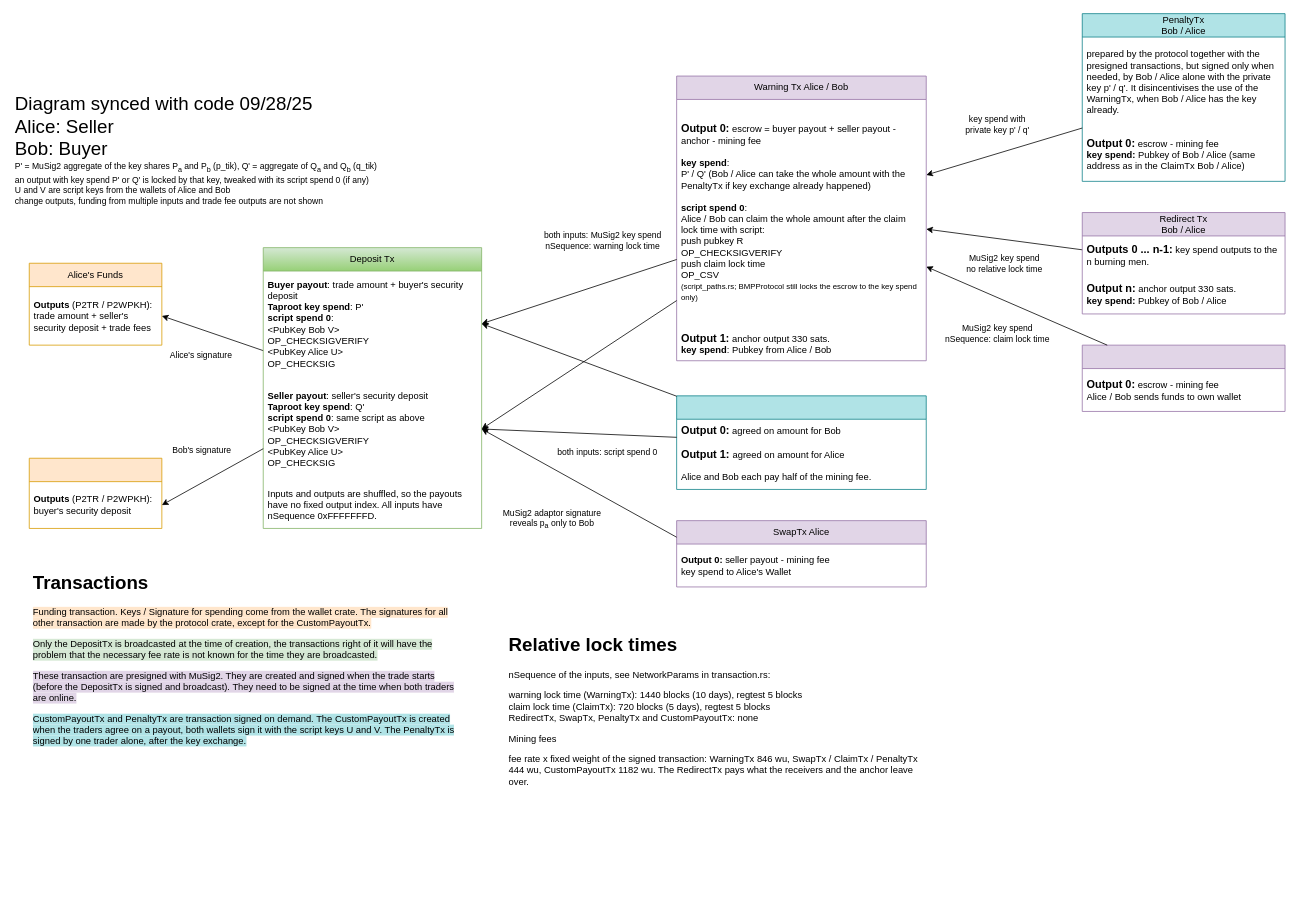
This 1299x901 diagram has some shape labels left out. Each missing label, with the box of its shape:
Bob's Funds: (28, 457, 162, 528)
ClaimTx Alice / Bob: (1081, 344, 1285, 411)
CustomPayoutTx: (676, 395, 926, 489)
